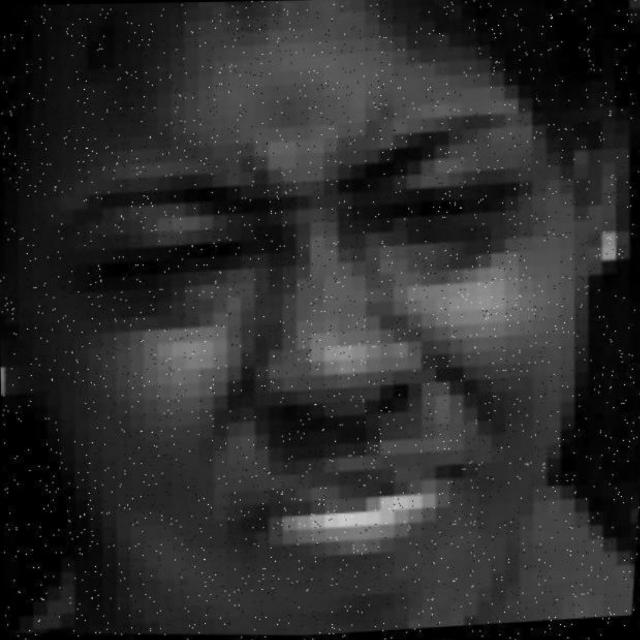Disgust: (13, 8, 640, 612)
